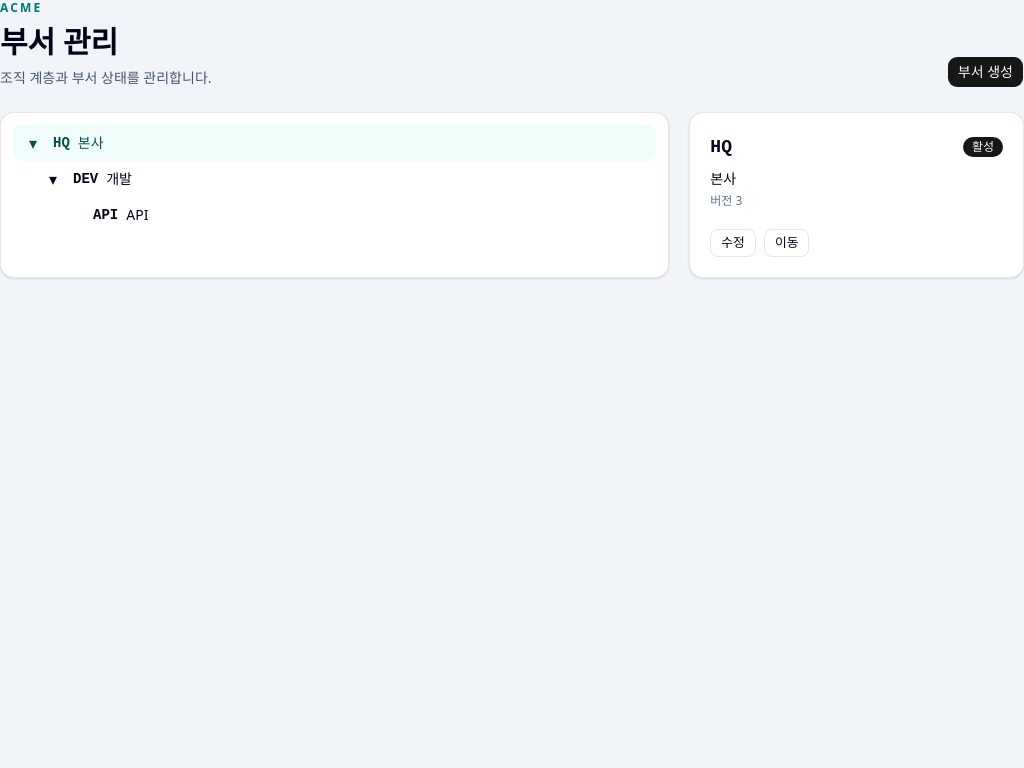
Test: moves to root with the exact versioned DTO and surfaces server 409 authority
Click the list item "▾ DEV 개발 API API": [86, 179] box left=41, top=167, right=148, bottom=224
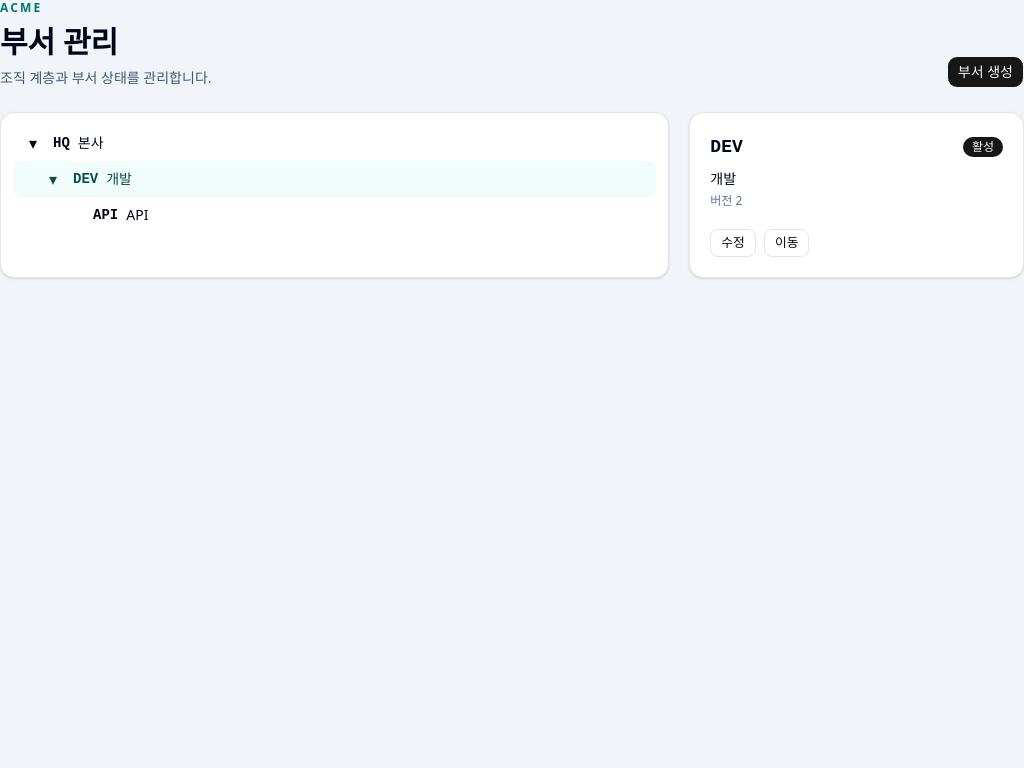
Click the button with aria-label "DEV 이동": [787, 243] box left=764, top=229, right=809, bottom=257
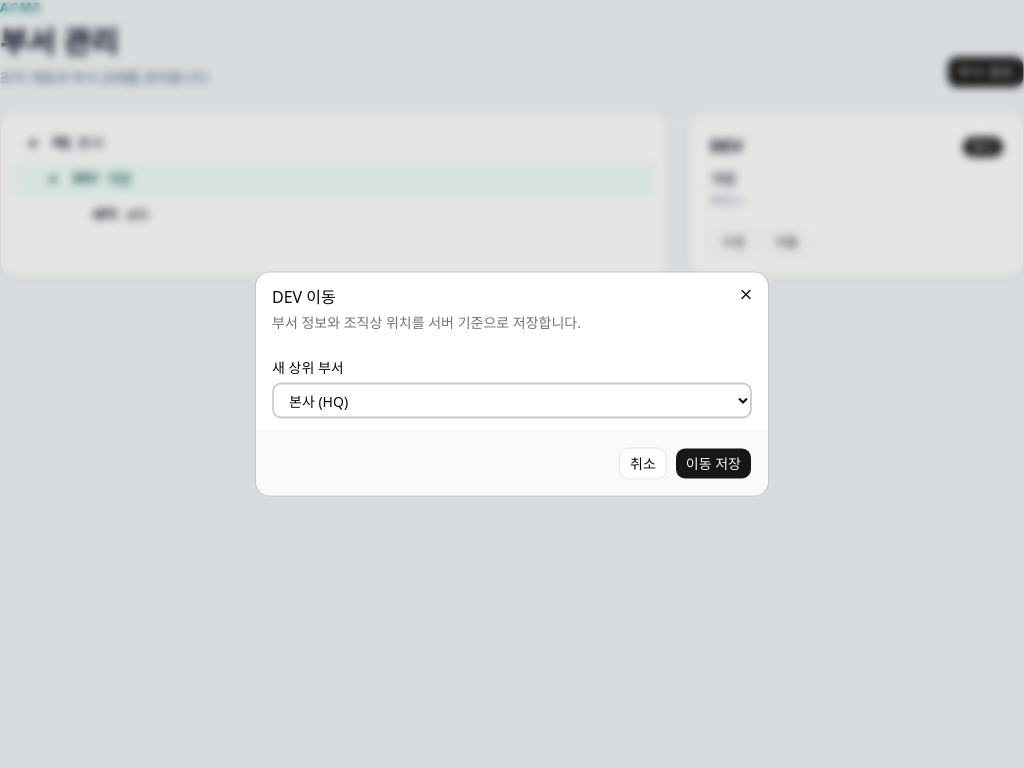
Select "최상위 부서" in the dropdown labelled "새 상위 부서": [512, 400] box left=272, top=382, right=752, bottom=418
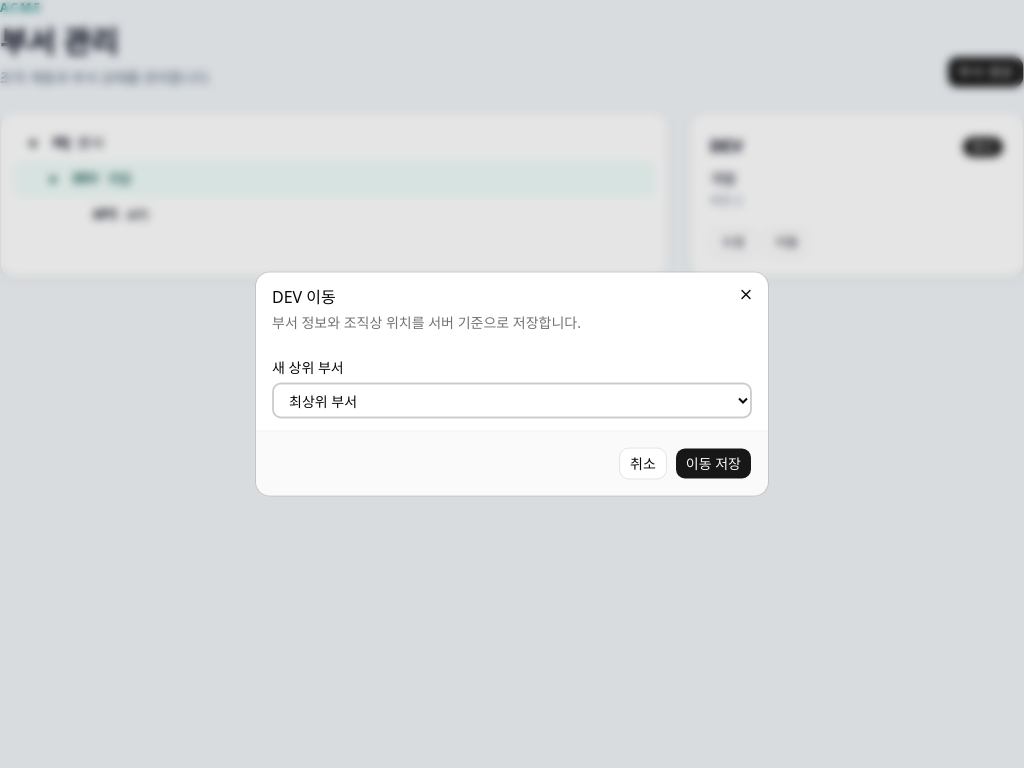
Click the button "이동 저장": [713, 464] box left=675, top=448, right=752, bottom=480
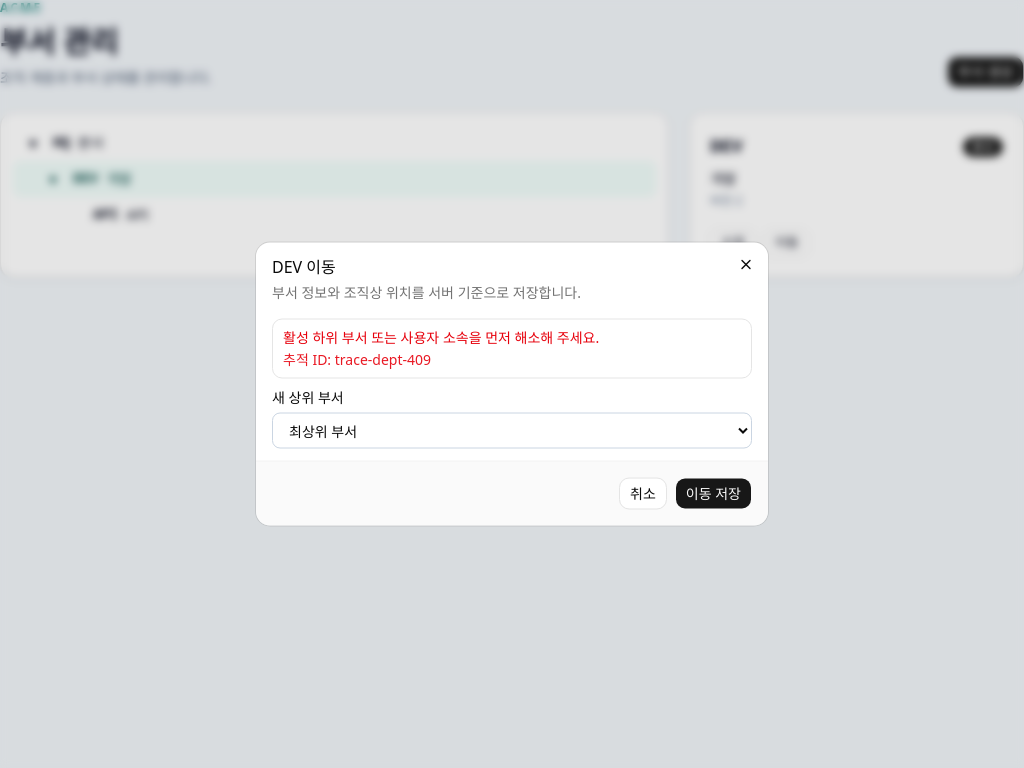
Check: the text "활성 하위 부서 또는 사용자 소속을 먼저 해소해 주세요." is shown, box left=283, top=328, right=599, bottom=346
Check: the text "추적 ID: trace-dept-409" is shown, box left=283, top=350, right=431, bottom=368
